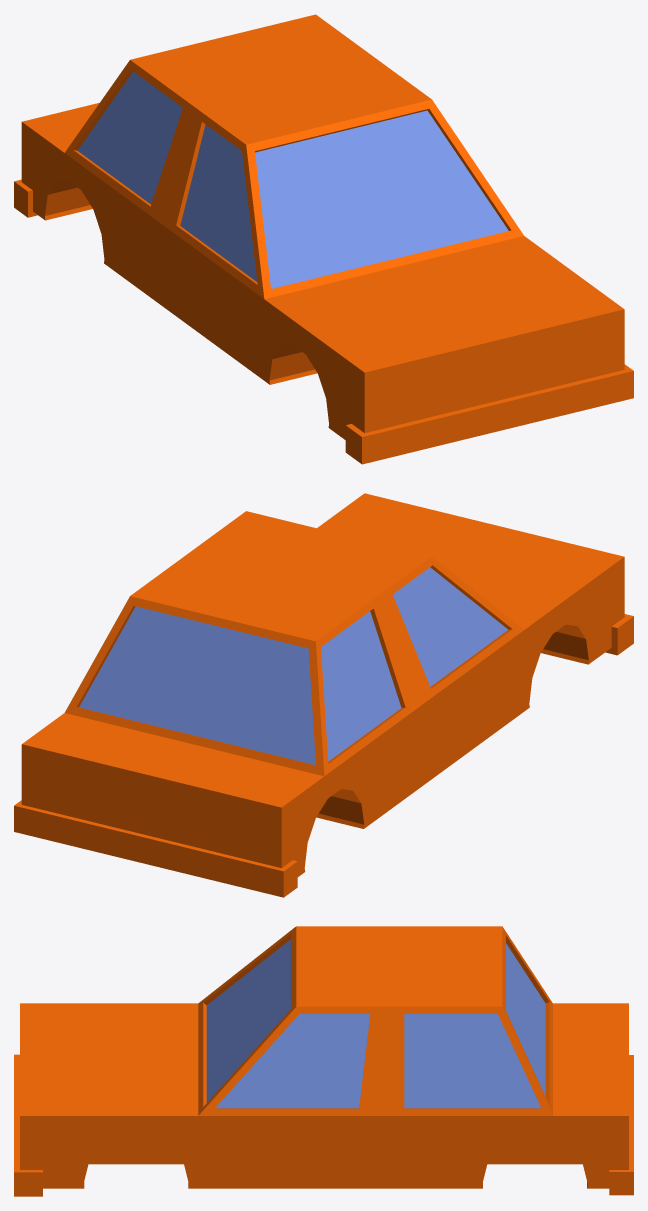
The model's file is body_orange.gltf.
3 renders of one model, top to bottom at view 1: azimuth 30°, elevation 25°; view 2: azimuth 150°, elevation 25°; view 3: azimuth 270°, elevation 25°, orthographic. The views are drawn at different scales.
Visible parts, largest first — view 1: Body; view 2: Body; view 3: Body.
Boxes of the visible parts, bbox=[...] form: Body: bbox=[14, 14, 633, 464]; Body: bbox=[14, 493, 633, 897]; Body: bbox=[14, 926, 633, 1196].
Size of what is drawn, in the model's own units: 2.09 by 1.42 by 4.65.
